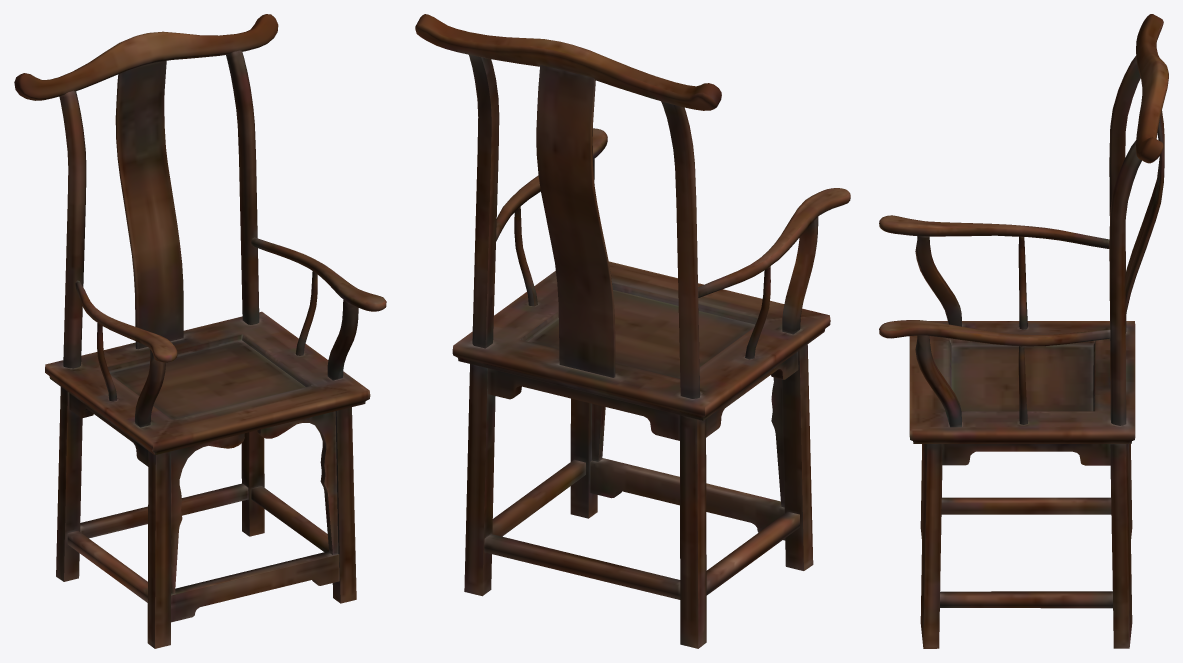
File: armchair.glb
The picture shows the model from 3 angles, left to right: view 1: azimuth 30°, elevation 25°; view 2: azimuth 150°, elevation 25°; view 3: azimuth 270°, elevation 25°; orthographic projection. The views are drawn at different scales.
Parts seen in each view (by area): view 1: chinese_armchair; view 2: chinese_armchair; view 3: chinese_armchair.
Part boxes in pixels (bbox=[...]): chinese_armchair: bbox=[14, 14, 386, 648]; chinese_armchair: bbox=[415, 14, 850, 648]; chinese_armchair: bbox=[879, 14, 1168, 648].
Size of the model in its own units: 0.8483 by 1.59 by 0.7886.
Materials: 1 (1 with a texture image).
